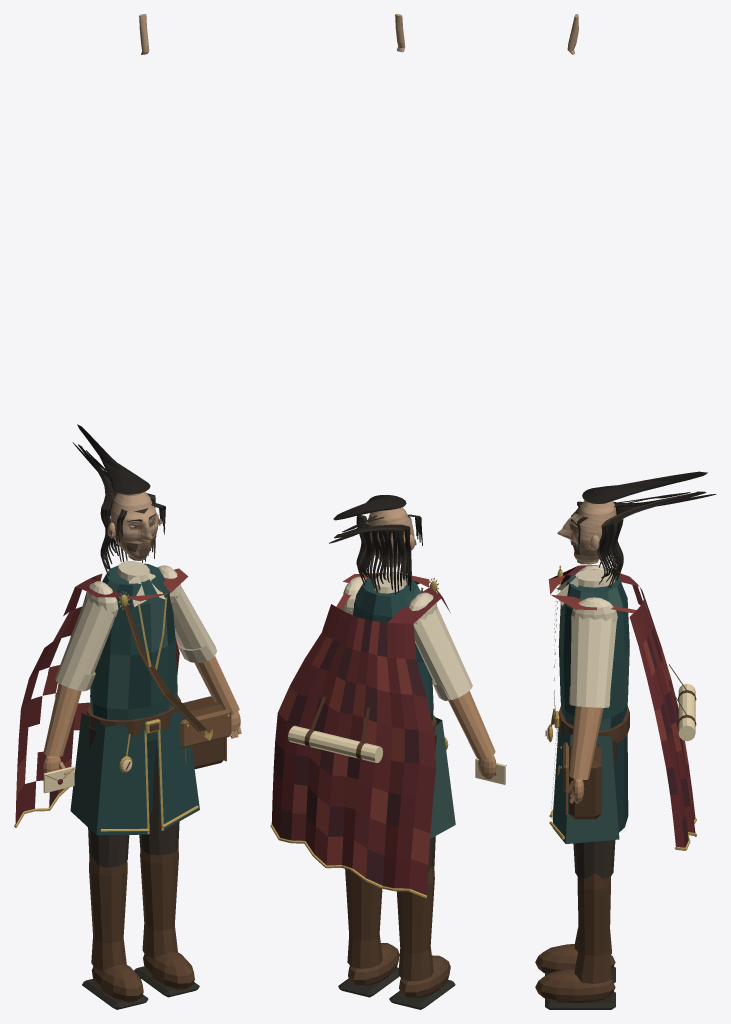
File: courier.glb
The picture shows the model from 3 angles, left to right: view 1: azimuth 30°, elevation 25°; view 2: azimuth 150°, elevation 25°; view 3: azimuth 270°, elevation 25°; orthographic projection.
Parts seen in each view (by area): view 1: Waistcoat, Split_coat_R, Cloak_folds, Boot_shaft_R, Boot_shaft_L, Split_coat_L, Linen_sleeve_R, Face, Forearm_R, Trouser_thigh_L, Linen_sleeve_L, Boot_toe_L (+13 smaller); view 2: Cloak_folds, Boot_shaft_R, Boot_shaft_L, Linen_sleeve_R, Waistcoat, Split_coat_R, Map_roll, Forearm_R, Boot_toe_R, Boot_toe_L, Face, Hair_crown (+2 smaller); view 3: Cloak_folds, Waistcoat, Linen_sleeve_L, Split_coat_L, Boot_shaft_L, Boot_toe_L, Face, Forearm_L, Trouser_thigh_L, Hair_crown, Messenger_satchel, Back_coat (+6 smaller).
Part boxes in pixels (x1=…): Waistcoat: x1=90, y1=563, x2=177, y2=741; Split_coat_R: x1=70, y1=712, x2=147, y2=835; Cloak_folds: x1=15, y1=568, x2=188, y2=824; Boot_shaft_R: x1=89, y1=856, x2=127, y2=970; Boot_shaft_L: x1=140, y1=846, x2=178, y2=958; Split_coat_L: x1=156, y1=702, x2=199, y2=831; Linen_sleeve_R: x1=55, y1=596, x2=116, y2=691; Face: x1=110, y1=492, x2=158, y2=560; Forearm_R: x1=43, y1=683, x2=81, y2=756; Trouser_thigh_L: x1=139, y1=741, x2=179, y2=855; Linen_sleeve_L: x1=171, y1=586, x2=216, y2=662; Boot_toe_L: x1=143, y1=951, x2=194, y2=990; Cloak_folds: x1=271, y1=572, x2=450, y2=895; Boot_shaft_R: x1=396, y1=866, x2=434, y2=981; Boot_shaft_L: x1=345, y1=869, x2=382, y2=968; Linen_sleeve_R: x1=413, y1=605, x2=472, y2=700; Waistcoat: x1=353, y1=575, x2=433, y2=720; Split_coat_R: x1=430, y1=717, x2=455, y2=838; Map_roll: x1=288, y1=726, x2=382, y2=762; Forearm_R: x1=448, y1=691, x2=495, y2=759; Boot_toe_R: x1=399, y1=955, x2=450, y2=998; Boot_toe_L: x1=348, y1=943, x2=399, y2=986; Face: x1=367, y1=507, x2=414, y2=567; Hair_crown: x1=333, y1=495, x2=406, y2=520; Cloak_folds: x1=548, y1=565, x2=695, y2=847; Waistcoat: x1=558, y1=569, x2=629, y2=730; Linen_sleeve_L: x1=570, y1=616, x2=616, y2=707; Split_coat_L: x1=552, y1=717, x2=619, y2=843; Boot_shaft_L: x1=574, y1=872, x2=611, y2=983; Boot_toe_L: x1=535, y1=969, x2=615, y2=1003; Face: x1=557, y1=500, x2=616, y2=564; Forearm_L: x1=569, y1=706, x2=603, y2=779; Trouser_thigh_L: x1=573, y1=740, x2=617, y2=879; Hair_crown: x1=582, y1=471, x2=707, y2=503; Messenger_satchel: x1=568, y1=744, x2=601, y2=819; Back_coat: x1=614, y1=735, x2=628, y2=832.
Bounding box in the file's own units: 0.7395 × 3.42 × 0.5775.
